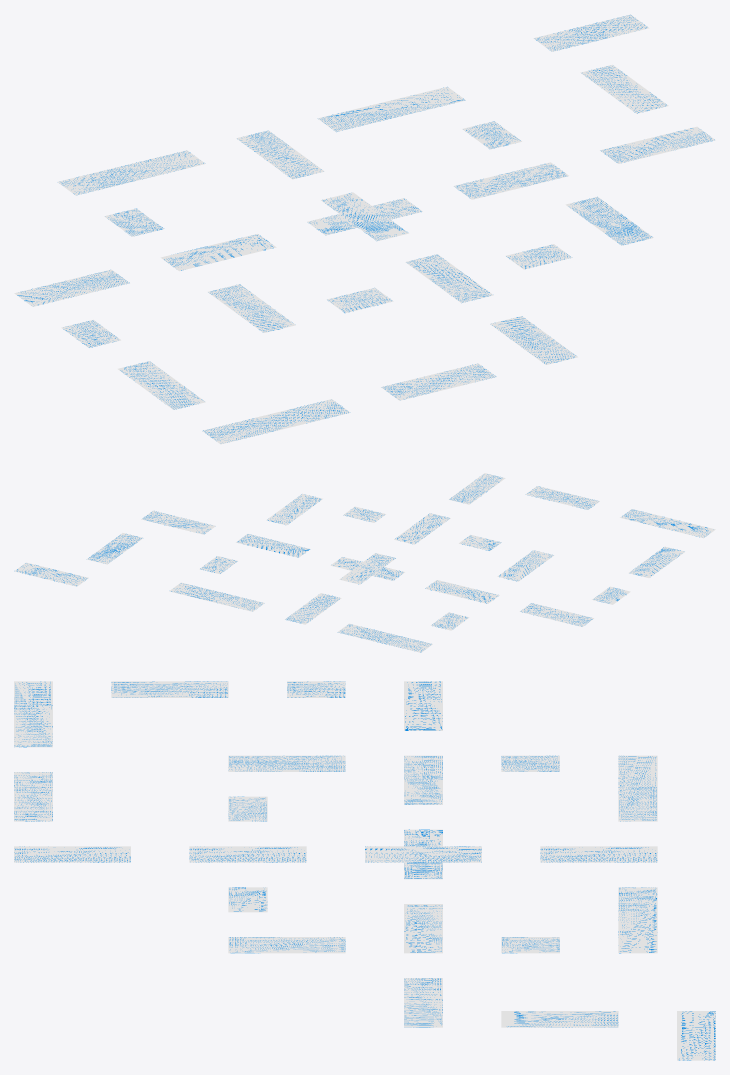
Rendered from RLevel 11.fbx.
The picture shows the model from 3 angles, top to bottom: view 1: azimuth 30°, elevation 25°; view 2: azimuth 150°, elevation 25°; view 3: azimuth 270°, elevation 25°; orthographic projection. The views are drawn at different scales.
Parts seen in each view (by area): view 1: Model; view 2: Model; view 3: Model.
Part boxes in pixels (box(x1,y1,x2,y2)): Model: box(14, 14, 715, 444); Model: box(14, 473, 715, 652); Model: box(14, 681, 715, 1060).
Bounding box in the file's own units: 460 × 0 × 360.
